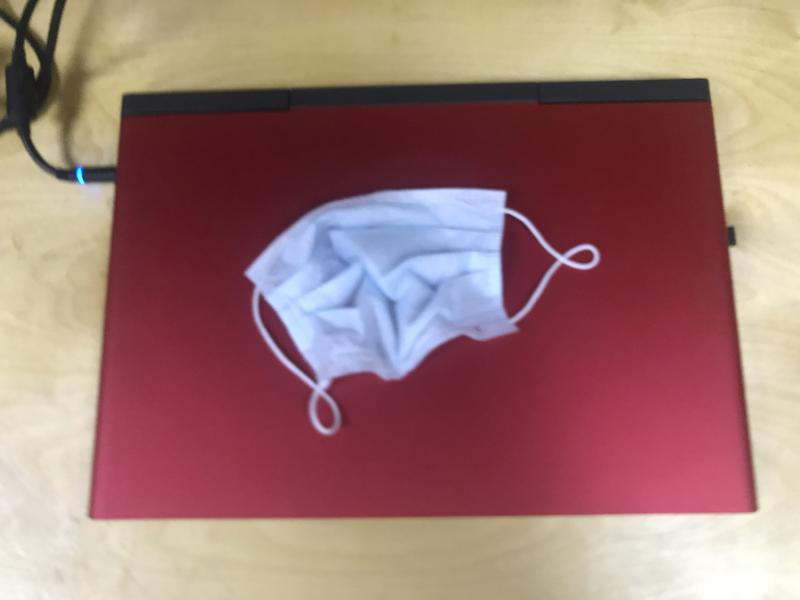medical_mask: (245, 187, 599, 384)
